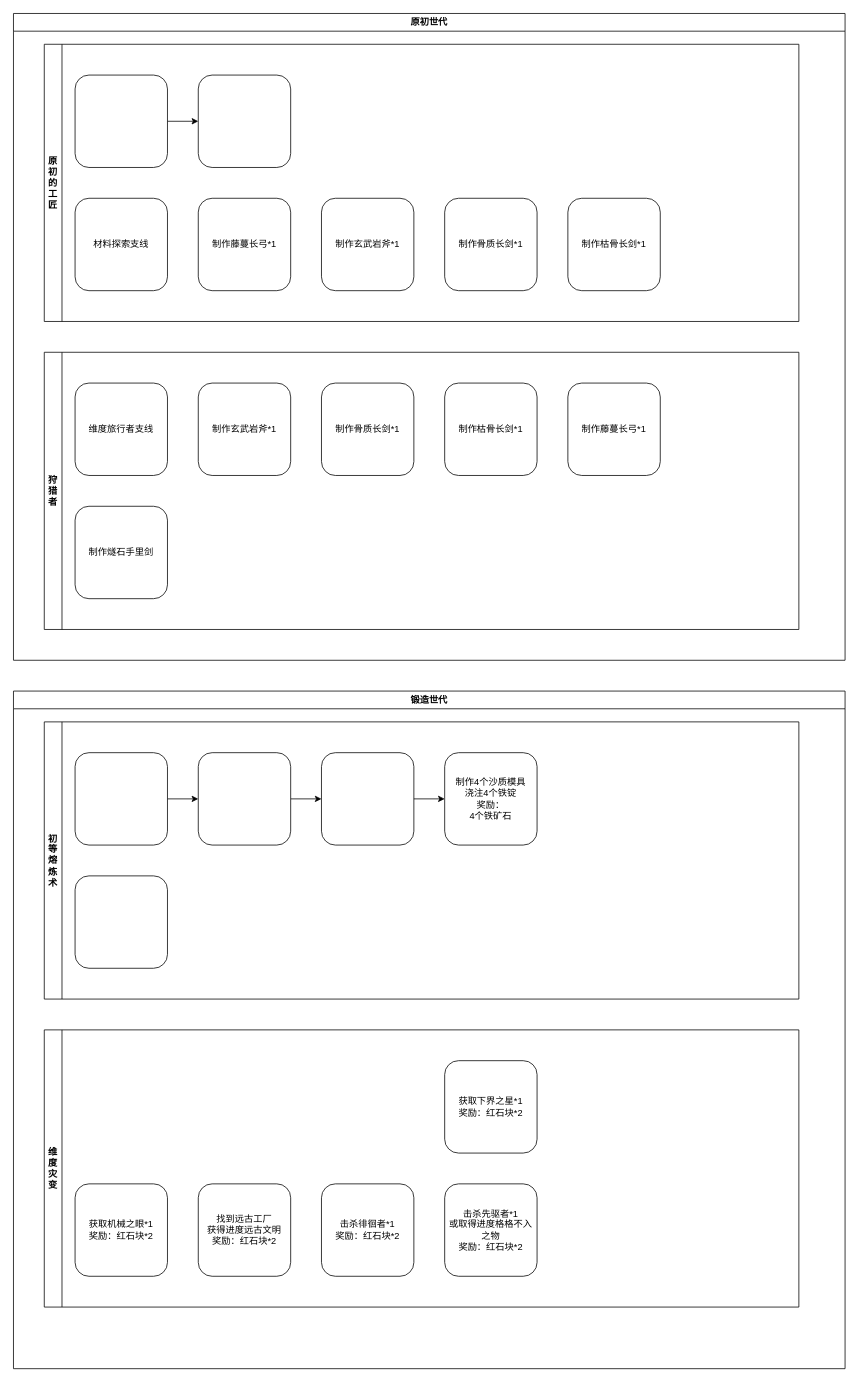
Image size: 859x1382. Some labels were removed from this diagram. Here are the shapes that lost their labels. From the top down, the centre of each, then its label:
At (x=120, y=120): "制作模具*6 制作部件制造台*1 制作工匠站*1 奖励：橡木原木*4".
At (x=244, y=120): "组装石镐*1 奖励：原石*32".
At (x=120, y=798): "获取粘土*8 沙子*8 沙砾*8 奖励：沙子*8 沙砾*8 煤炭*2".
At (x=244, y=798): "获取砖泥*8 玻璃*8 焦黑砖*8 奖励：焦黑砖*8 煤炭*2".
At (x=367, y=798): "获取焦黑材料量器*1 焦黑熔化炉*1 焦黑燃料储罐*1 焦黑浇注台*1 焦黑浇注口*1 奖励：焦黑砖*8 煤炭*2 沙子*2".
At (x=120, y=921): "获取锻造台*1 奖励：".
